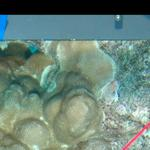alive: (6, 44, 146, 147)
